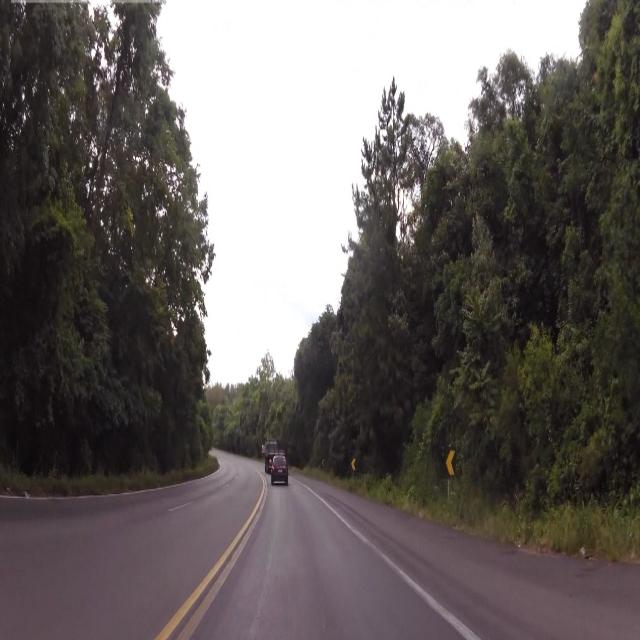Del: (444, 444, 459, 478)
